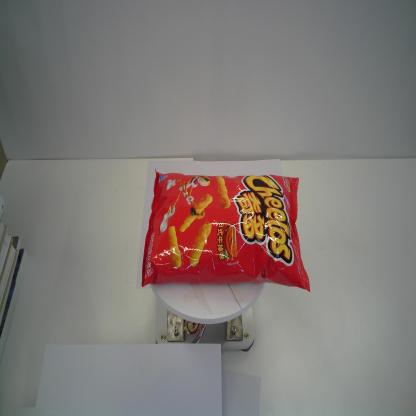Puffed Food: (141, 162, 314, 294)
